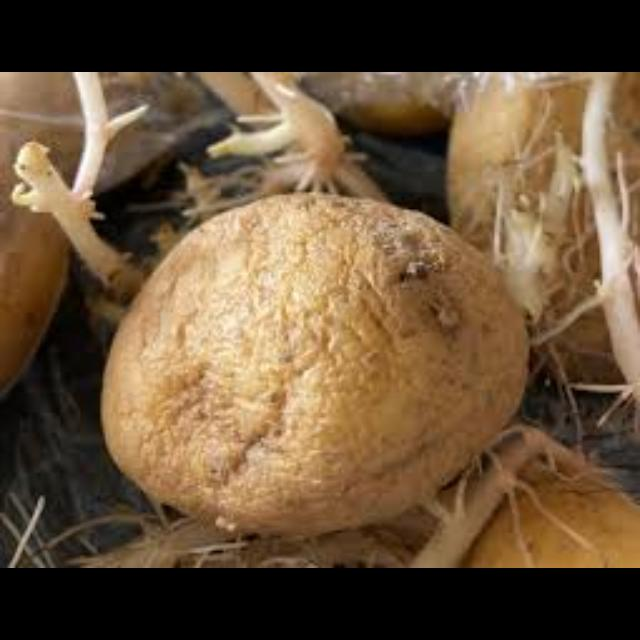Sprouted potato: (7, 100, 591, 548)
